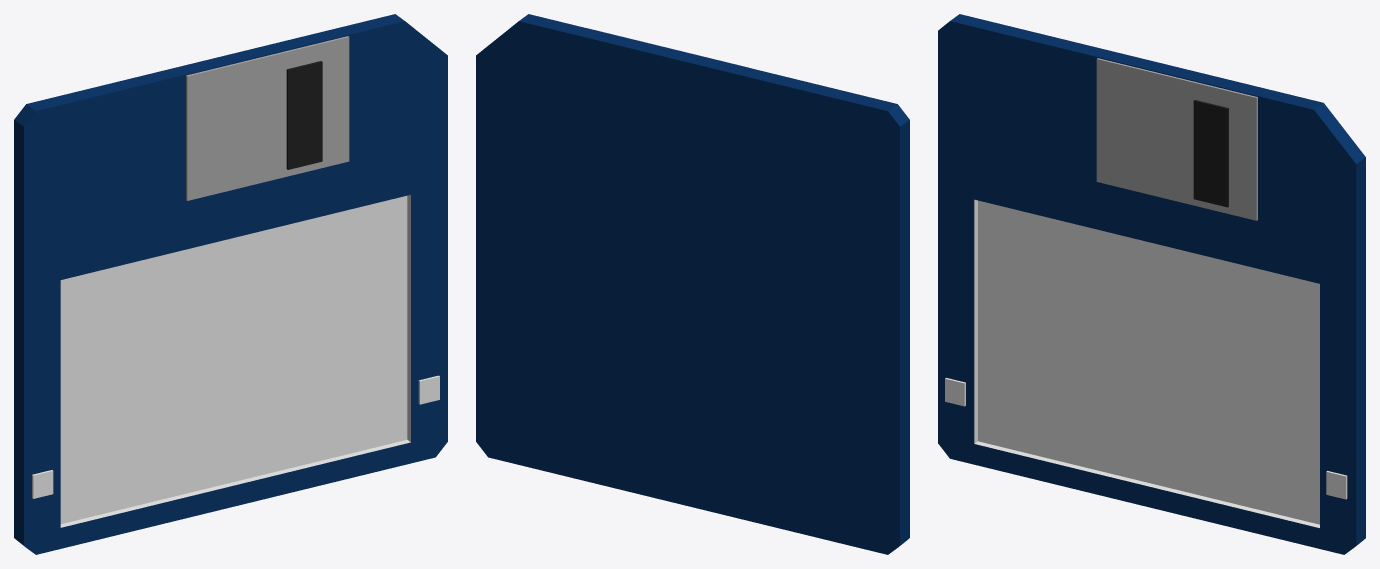
The model's file is floppyDisk.fbx.
3 views of the same model, side by side, from view 1: azimuth 30°, elevation 25°; view 2: azimuth 150°, elevation 25°; view 3: azimuth 330°, elevation 25° (orthographic).
Parts seen in each view (by area): view 1: Cube; view 2: Cube; view 3: Cube.
Part boxes in pixels (bbox=[...]): Cube: bbox=[14, 14, 447, 554]; Cube: bbox=[476, 14, 909, 554]; Cube: bbox=[938, 14, 1365, 554].
Bounding box in the file's own units: 20 × 20 × 1.
